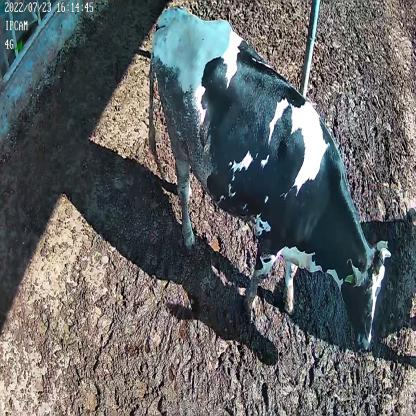cow: (148, 5, 392, 354)
